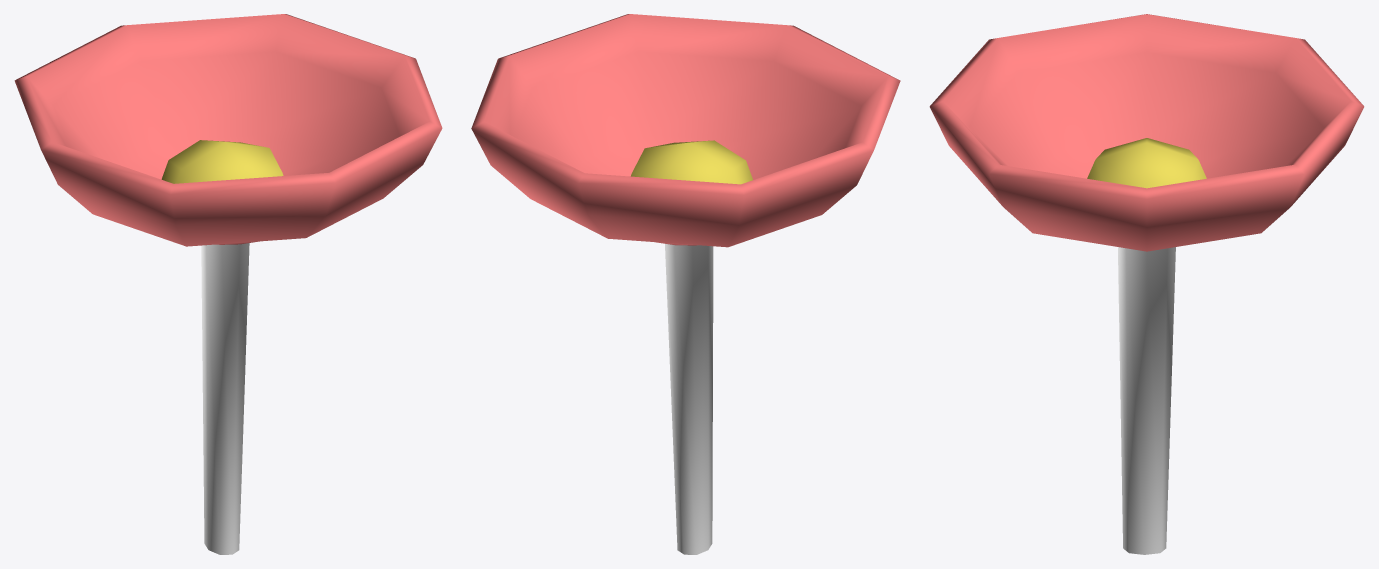
Rendered from Flower_15.fbx.
3 views of the same model, side by side, from view 1: azimuth 30°, elevation 25°; view 2: azimuth 150°, elevation 25°; view 3: azimuth 270°, elevation 25° (orthographic).
Visible parts, largest first — view 1: Flower_15; view 2: Flower_15; view 3: Flower_15.
Boxes of the visible parts, <box> form: Flower_15: <box>14,14,442,554</box>; Flower_15: <box>471,14,900,554</box>; Flower_15: <box>929,14,1364,554</box>.
Size of the model in its own units: 46.78 by 53.08 by 46.41.
